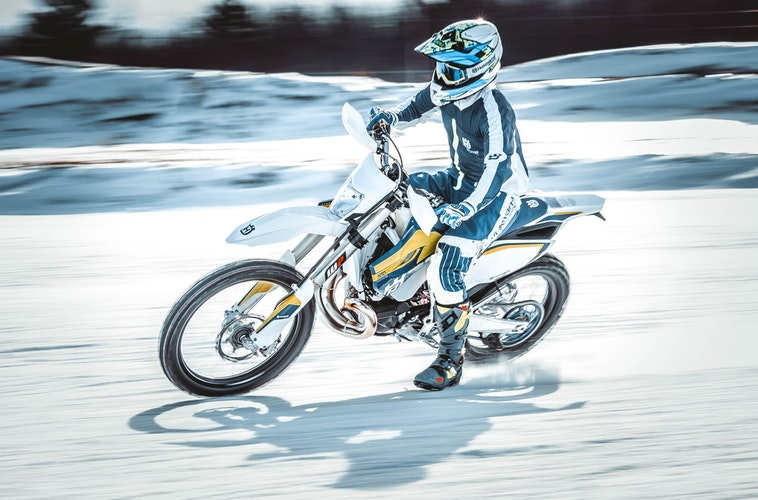helmet: (420, 13, 506, 112)
